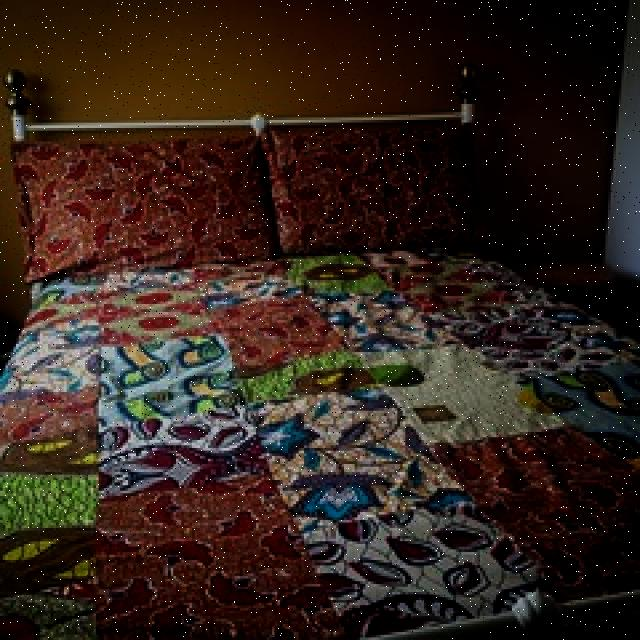bed: (7, 102, 639, 640)
